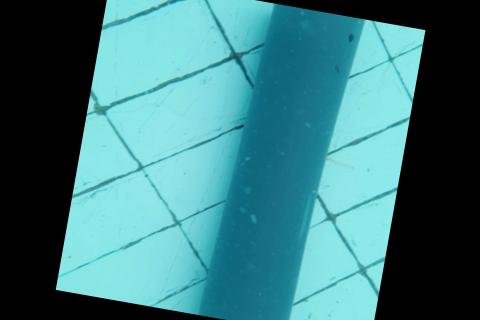kebocoran: (345, 32, 356, 43)
